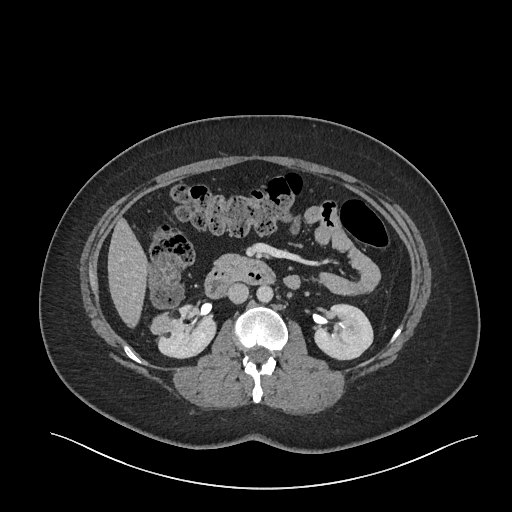Lesion: (145, 310, 177, 337)
